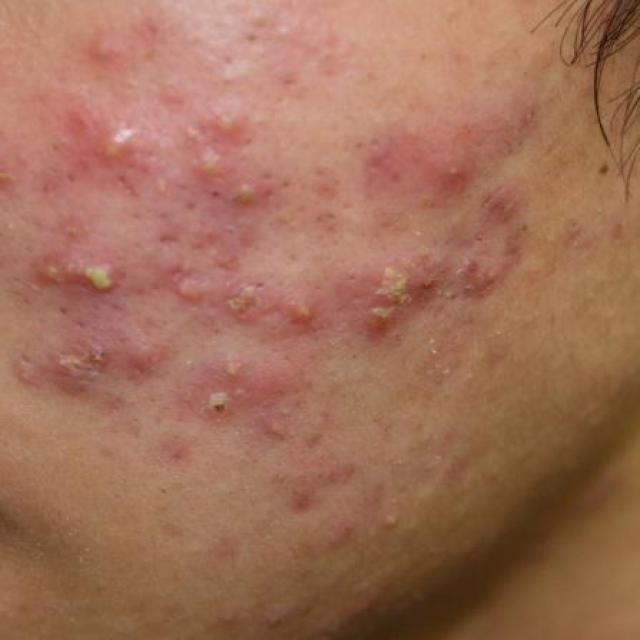crystanlline: (345, 248, 444, 344), (21, 253, 124, 310), (202, 288, 312, 338), (33, 339, 93, 409)
papule: (63, 17, 165, 90), (416, 139, 499, 209), (116, 336, 157, 392)
pustule: (366, 506, 421, 560), (104, 130, 139, 166), (213, 111, 252, 141), (234, 188, 270, 220), (220, 350, 252, 386), (202, 152, 225, 195)
